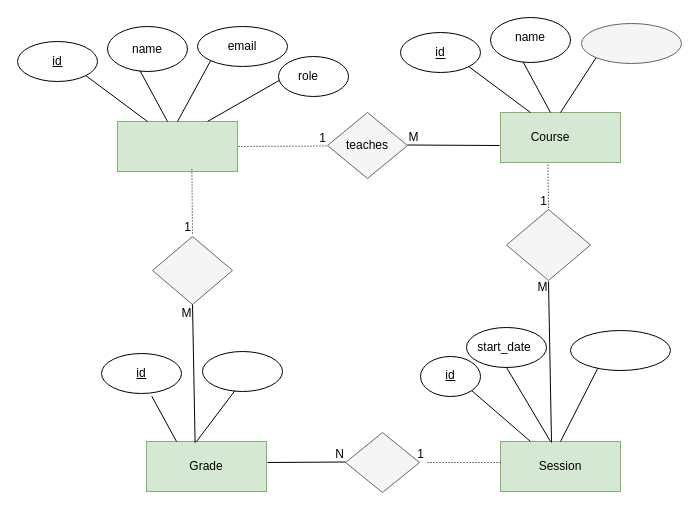
The diagram is 699 pixels wide and 510 high, and some of its shapes have lost their labels. Each missing label, with the centre of its shape:
"belongs to" goes at point 382,462.
"category" goes at point 631,43.
"contains" goes at point 548,244.
"end_date" goes at point 620,350.
"receives" goes at point 192,270.
"User" goes at point 177,146.
"value" goes at point 242,371.
